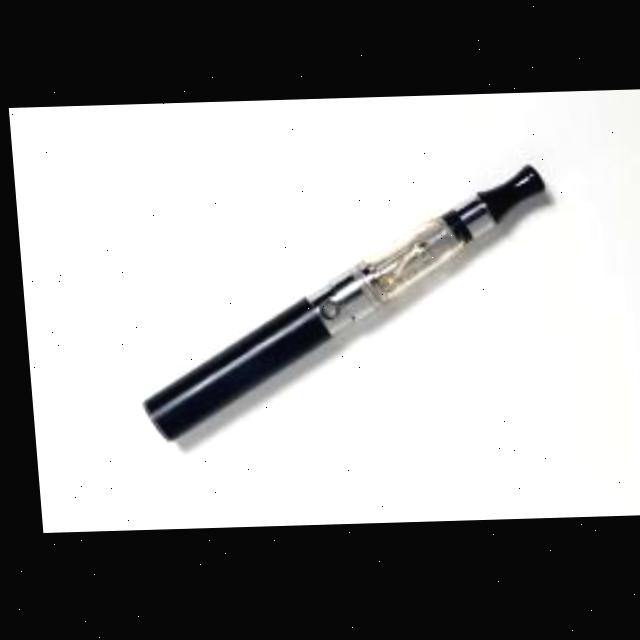vape: (119, 167, 561, 442)
